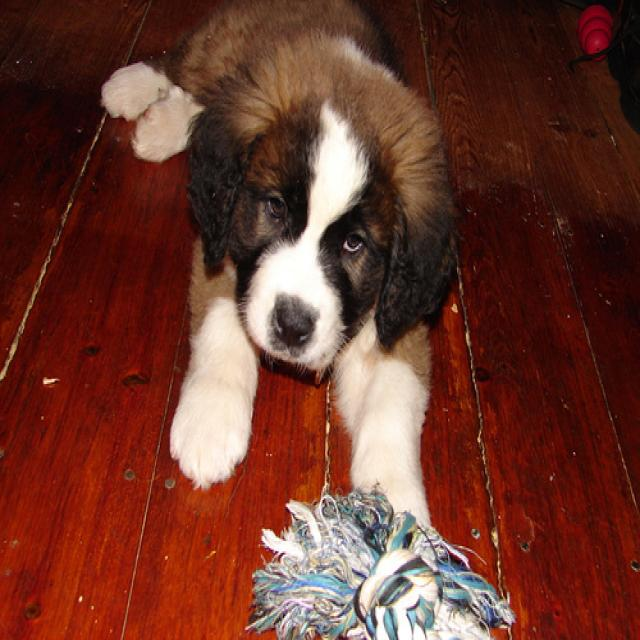dog-saint_bernard: (93, 2, 470, 534)
